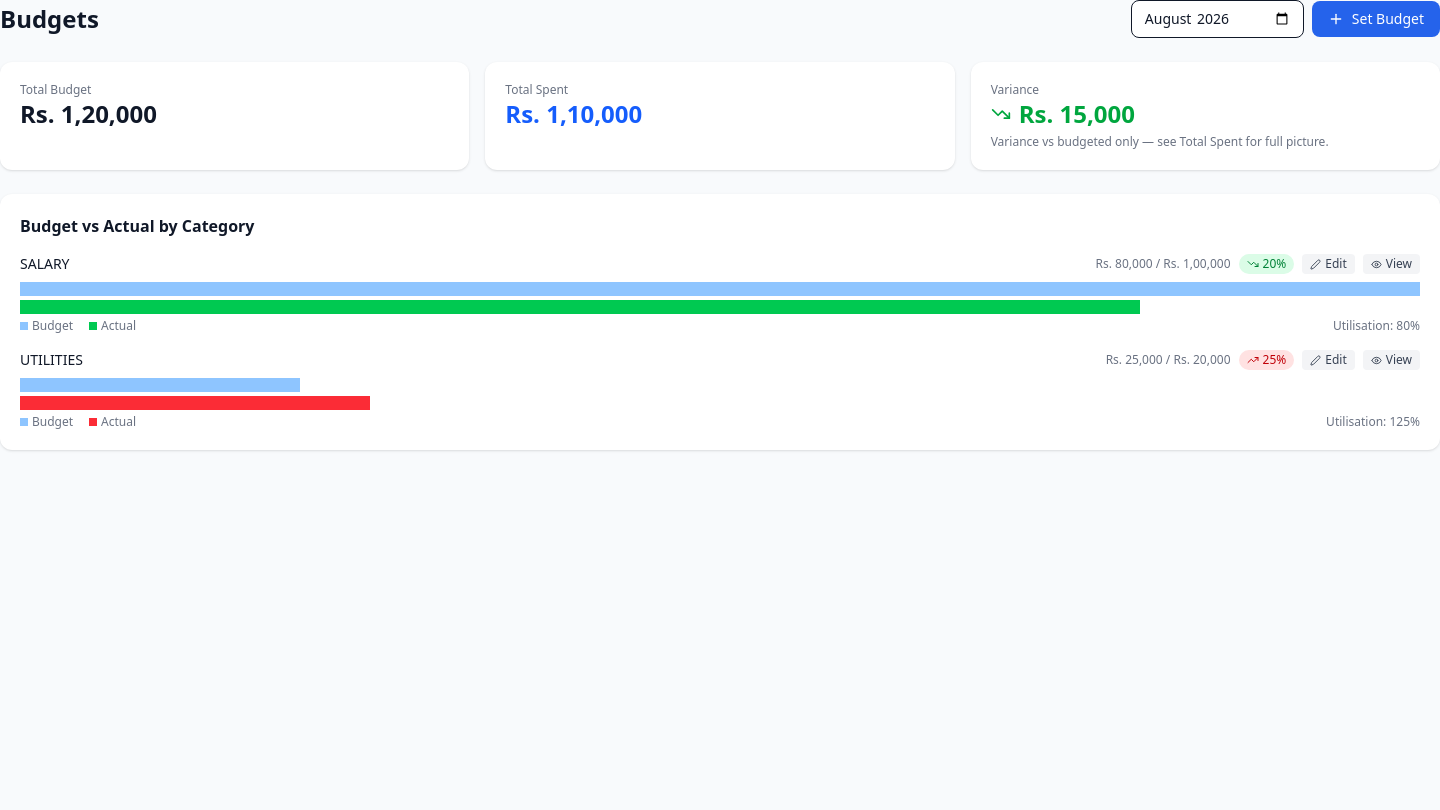
Test: Budgets dashboard page (admin-only monthly budgets vs actual) › submits a well-shaped POST, toasts success, closes the modal, and reloads
Expected: the element with test id "budget-row-SALARY" is shown, [20,254,1420,334]
Click the button "Set Budget" at (1376, 19), box [1312,1,1439,37]
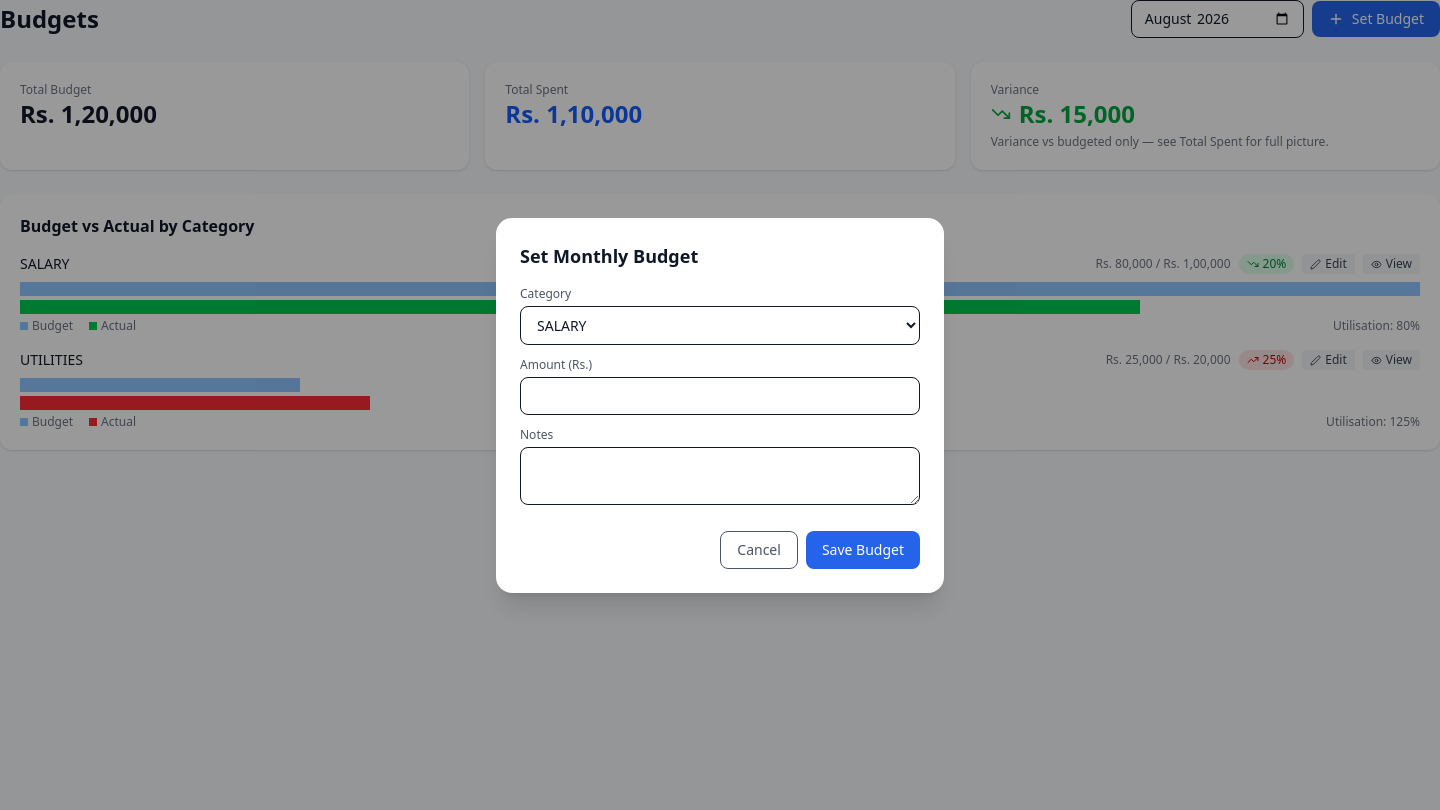
Select "RENT" in the dropdown with id "add-budget-category" at (720, 325), box [520,306,920,344]
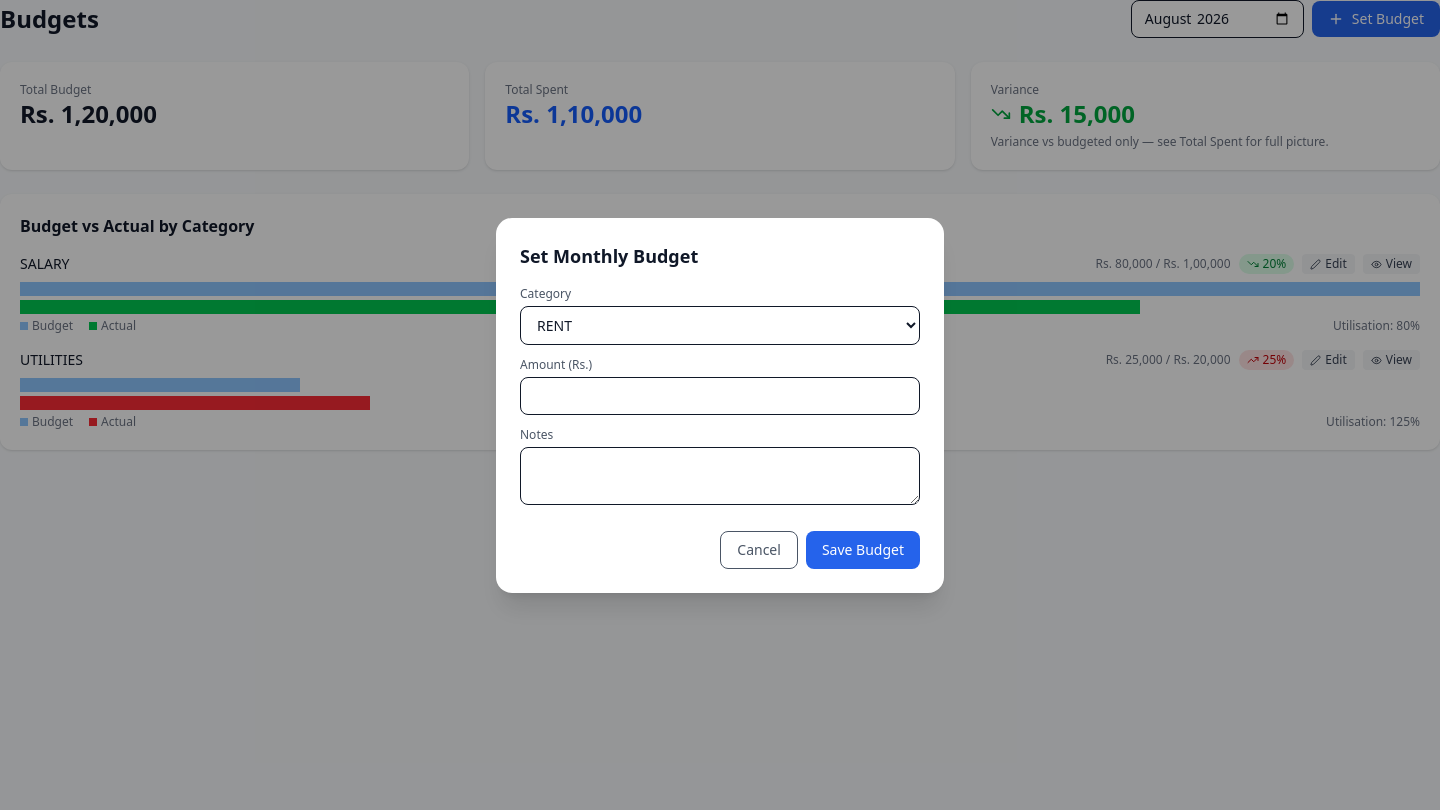
Type "75000" into the number field with id "add-budget-amount" at (720, 396), box [520,376,920,414]
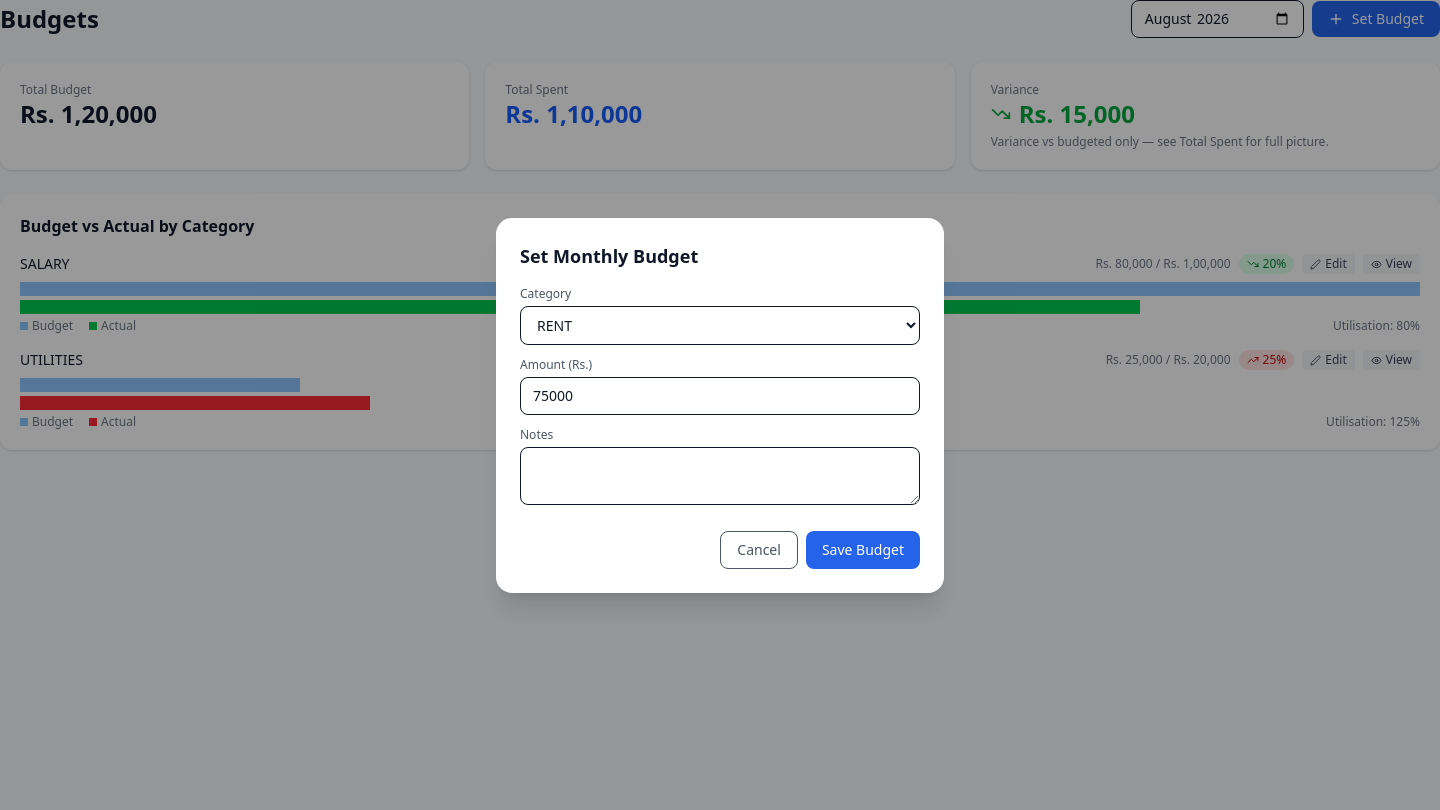
Type "Q2 lease" into the text box with id "add-budget-notes" at (720, 476), box [520,446,920,504]
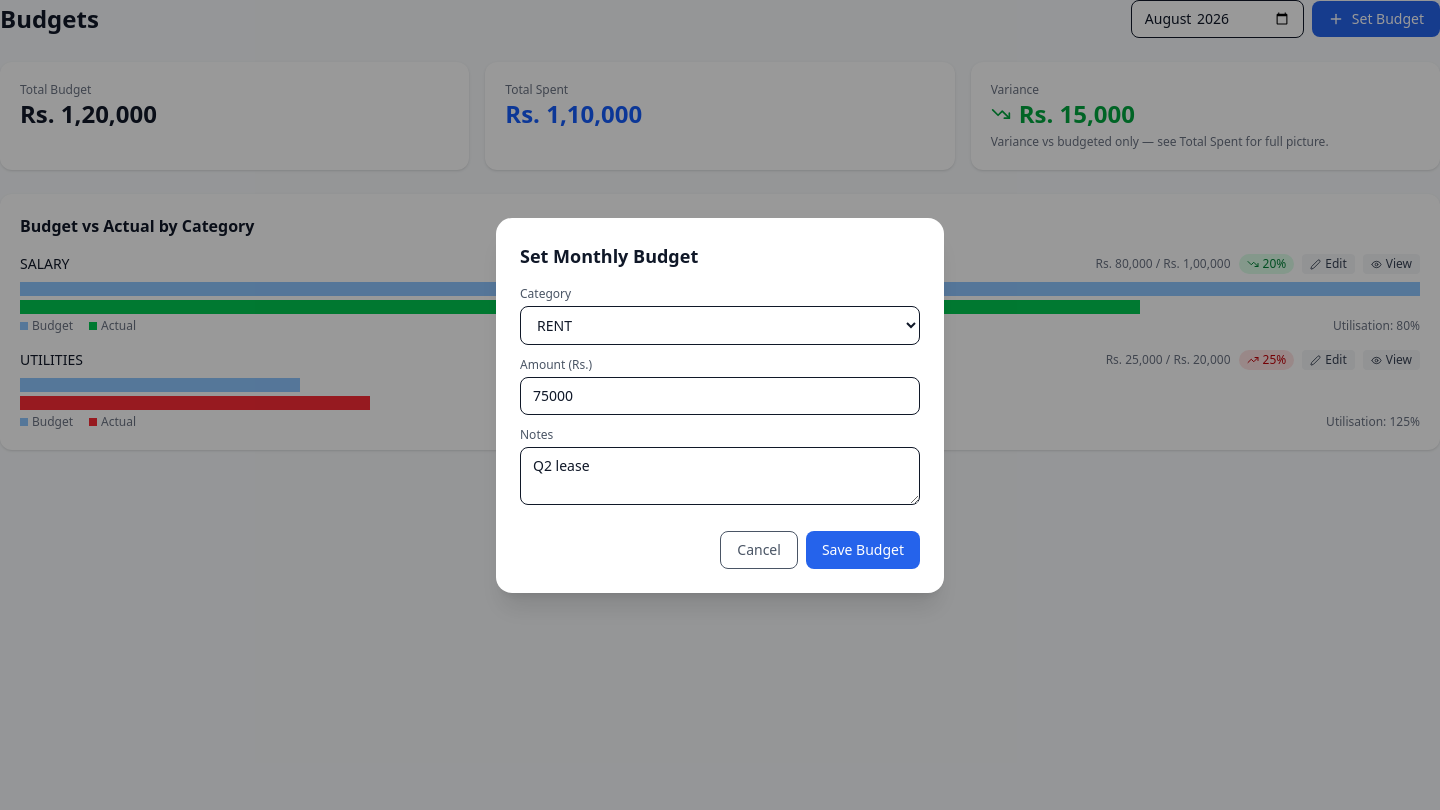
Click the button with test id "budget-save" at (863, 550), box [806,530,920,568]
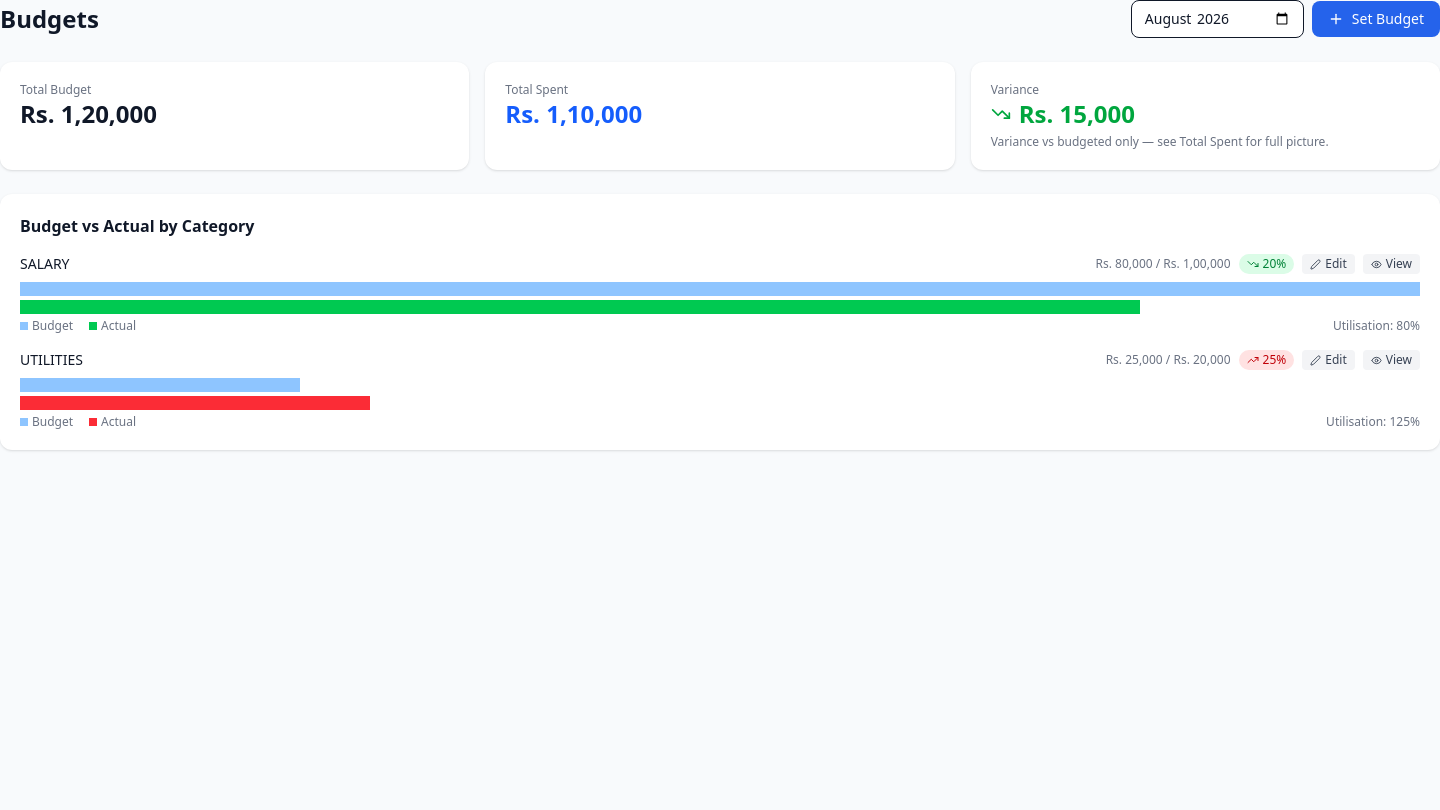
Expected: the heading "Set Monthly Budget" is gone
